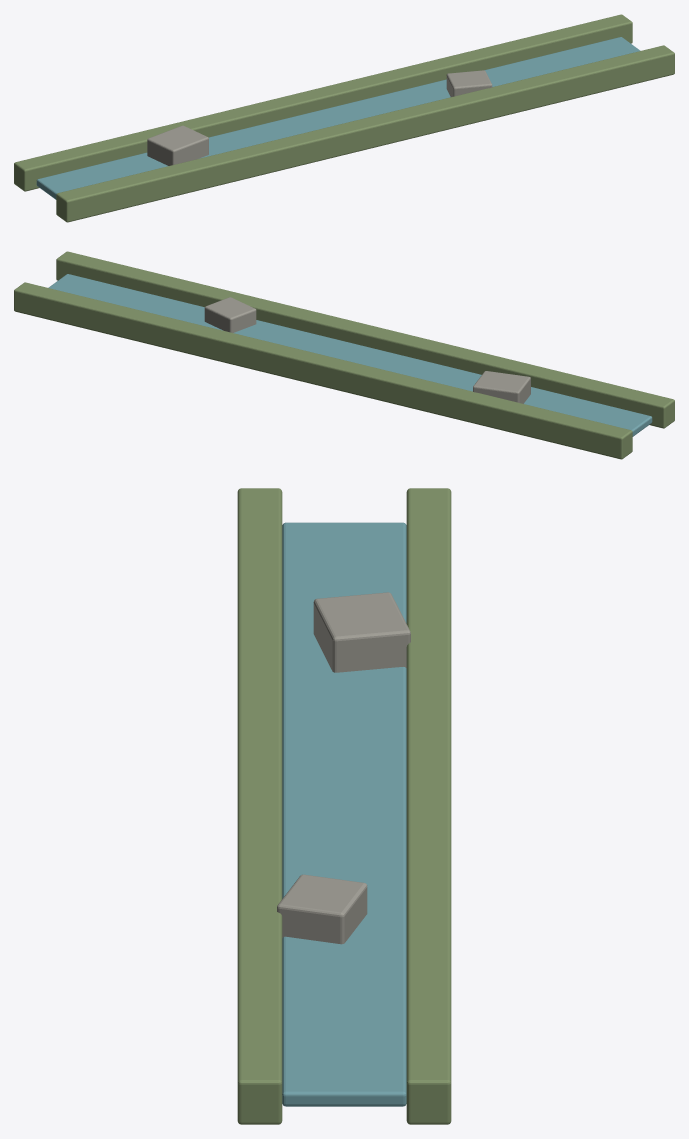
Rendered from woodland-stream-segment-01.glb.
3 views of the same model, one above another, from view 1: azimuth 30°, elevation 25°; view 2: azimuth 150°, elevation 25°; view 3: azimuth 270°, elevation 25° (orthographic). The views are drawn at different scales.
Visible parts, largest first — view 1: woodland-stream-segment-01; view 2: woodland-stream-segment-01; view 3: woodland-stream-segment-01.
Part boxes in pixels (left/top/right/bottom): woodland-stream-segment-01: left=14, top=14, right=674, bottom=222; woodland-stream-segment-01: left=14, top=251, right=674, bottom=459; woodland-stream-segment-01: left=237, top=488, right=451, bottom=1124.
Bounding box in the file's own units: 1.58 × 0.0695 × 0.24.
